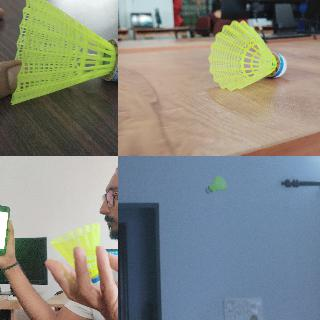shuttlecock: (10, 0, 117, 103), (208, 20, 286, 90), (51, 223, 101, 281), (206, 175, 227, 193)
